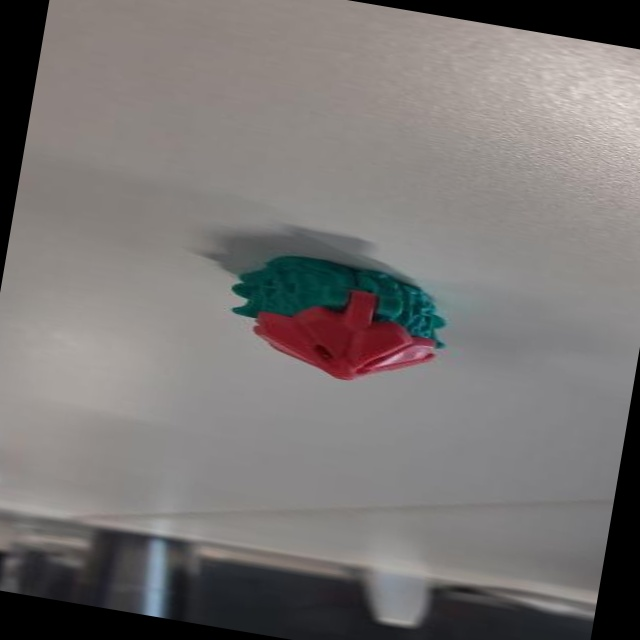House: (206, 241, 466, 404)
